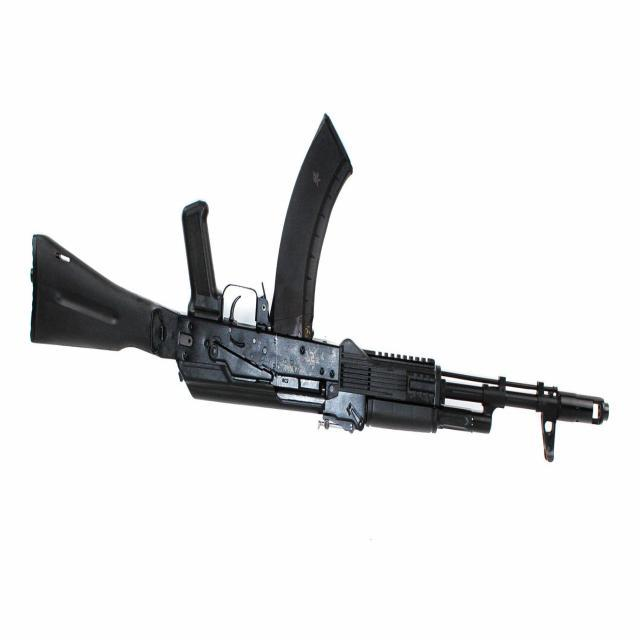weapon: (29, 113, 610, 466)
